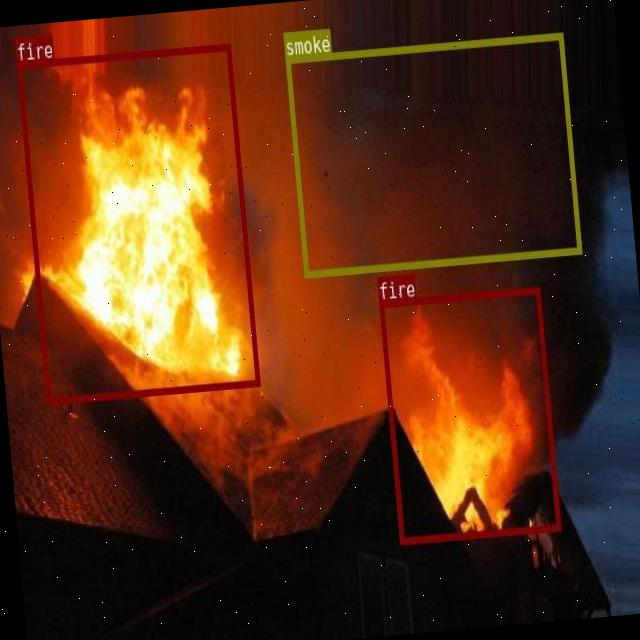fire: (17, 42, 258, 402), (378, 286, 560, 544)
smoke: (285, 32, 581, 275)
